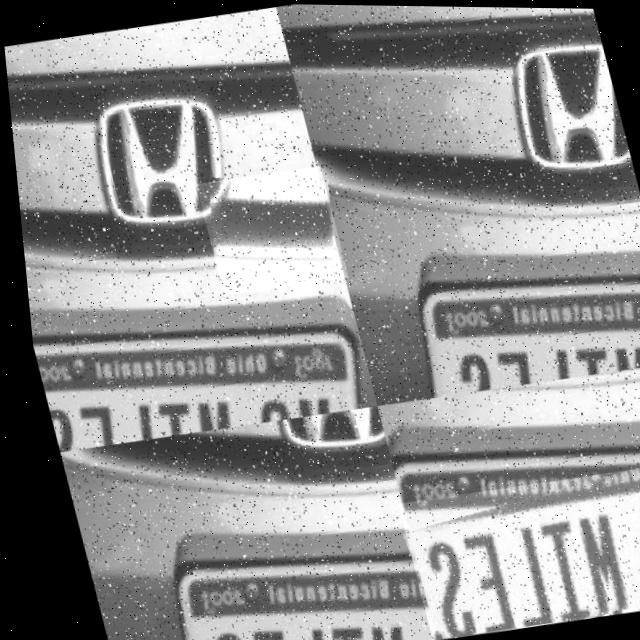LicensePlate: (384, 452, 640, 640), (191, 164, 345, 296)
